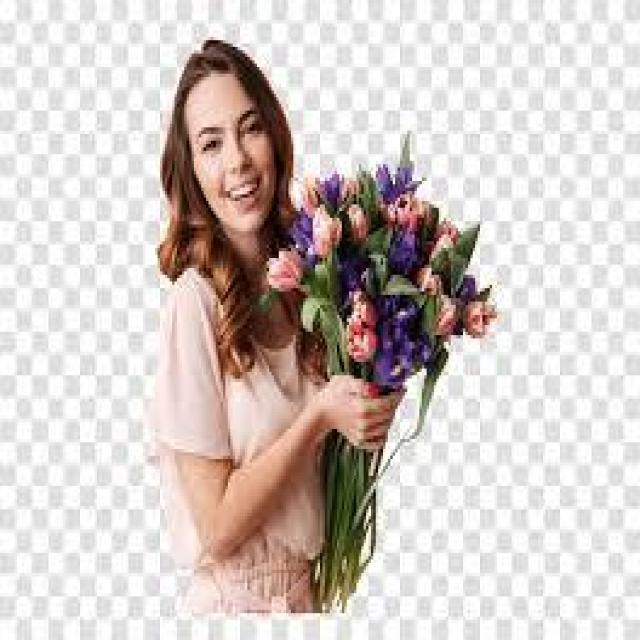organic waste: (272, 156, 488, 387)
